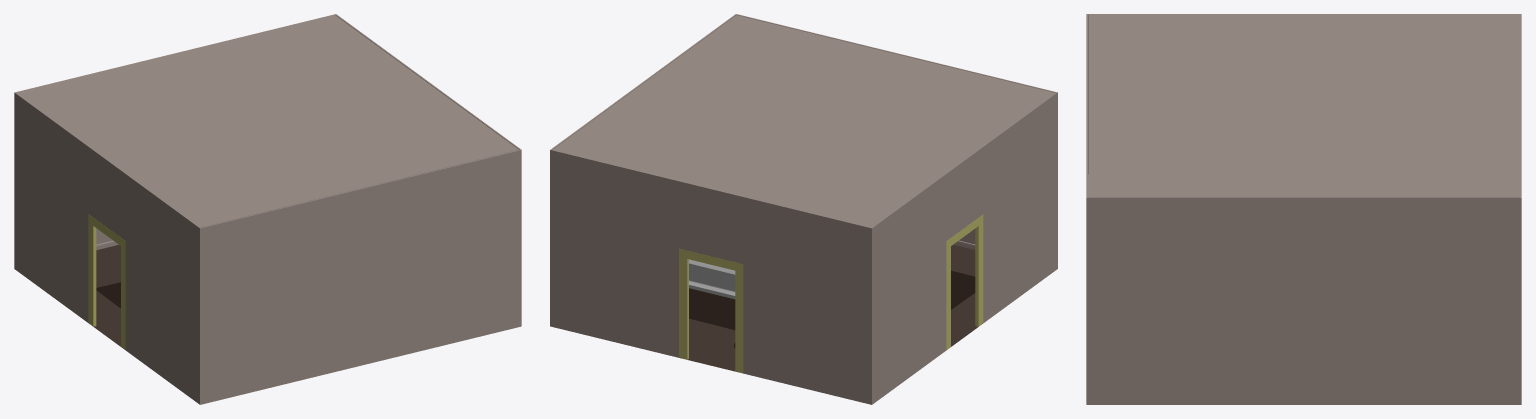
File: Room32_MasterBedroom.fbx
The picture shows the model from 3 angles, left to right: view 1: azimuth 30°, elevation 25°; view 2: azimuth 150°, elevation 25°; view 3: azimuth 270°, elevation 25°; orthographic projection. The views are drawn at different scales.
Parts seen in each view (by area): view 1: Roof, WallPosZ, WallSlicedPosX, WallPosZ17, WallSlicedPosX4, Floor, DoorFramePosX, WallNegX, WallSlicedNegZ; view 2: Roof, WallSlicedNegZ, WallSlicedPosX, WallSlicedNegZ28, WallSlicedPosX4, Floor, DoorFrameNegZ, pPlane11, DoorFramePosX, pCube98, WallNegX, WallPosZ; view 3: Roof, WallNegX, WallNegX18, WallSlicedPosX, WallPosZ.
Part boxes in pixels (bbox=[...]): Roof: bbox=[17, 15, 518, 227]; WallPosZ: bbox=[199, 150, 521, 364]; WallSlicedPosX: bbox=[14, 92, 200, 364]; WallPosZ17: bbox=[199, 286, 521, 404]; WallSlicedPosX4: bbox=[14, 229, 199, 404]; Floor: bbox=[89, 245, 120, 346]; DoorFramePosX: bbox=[88, 214, 125, 349]; WallNegX: bbox=[335, 14, 521, 285]; WallSlicedNegZ: bbox=[14, 14, 335, 228]; Roof: bbox=[553, 15, 1054, 227]; WallSlicedNegZ: bbox=[550, 149, 872, 364]; WallSlicedPosX: bbox=[870, 92, 1057, 364]; WallSlicedNegZ28: bbox=[550, 286, 873, 404]; WallSlicedPosX4: bbox=[869, 229, 1057, 404]; Floor: bbox=[679, 244, 982, 373]; DoorFrameNegZ: bbox=[679, 248, 743, 372]; pPlane11: bbox=[689, 270, 975, 329]; DoorFramePosX: bbox=[946, 214, 983, 349]; pCube98: bbox=[689, 259, 735, 292]; WallNegX: bbox=[550, 14, 736, 286]; WallPosZ: bbox=[736, 14, 1057, 228]; Roof: bbox=[1088, 14, 1519, 197]; WallNegX: bbox=[1086, 197, 1521, 357]; WallNegX18: bbox=[1086, 357, 1521, 404]; WallSlicedPosX: bbox=[1086, 14, 1521, 174]; WallPosZ: bbox=[1086, 14, 1087, 356].
Size of the model in its own units: 801 by 420 by 801.
